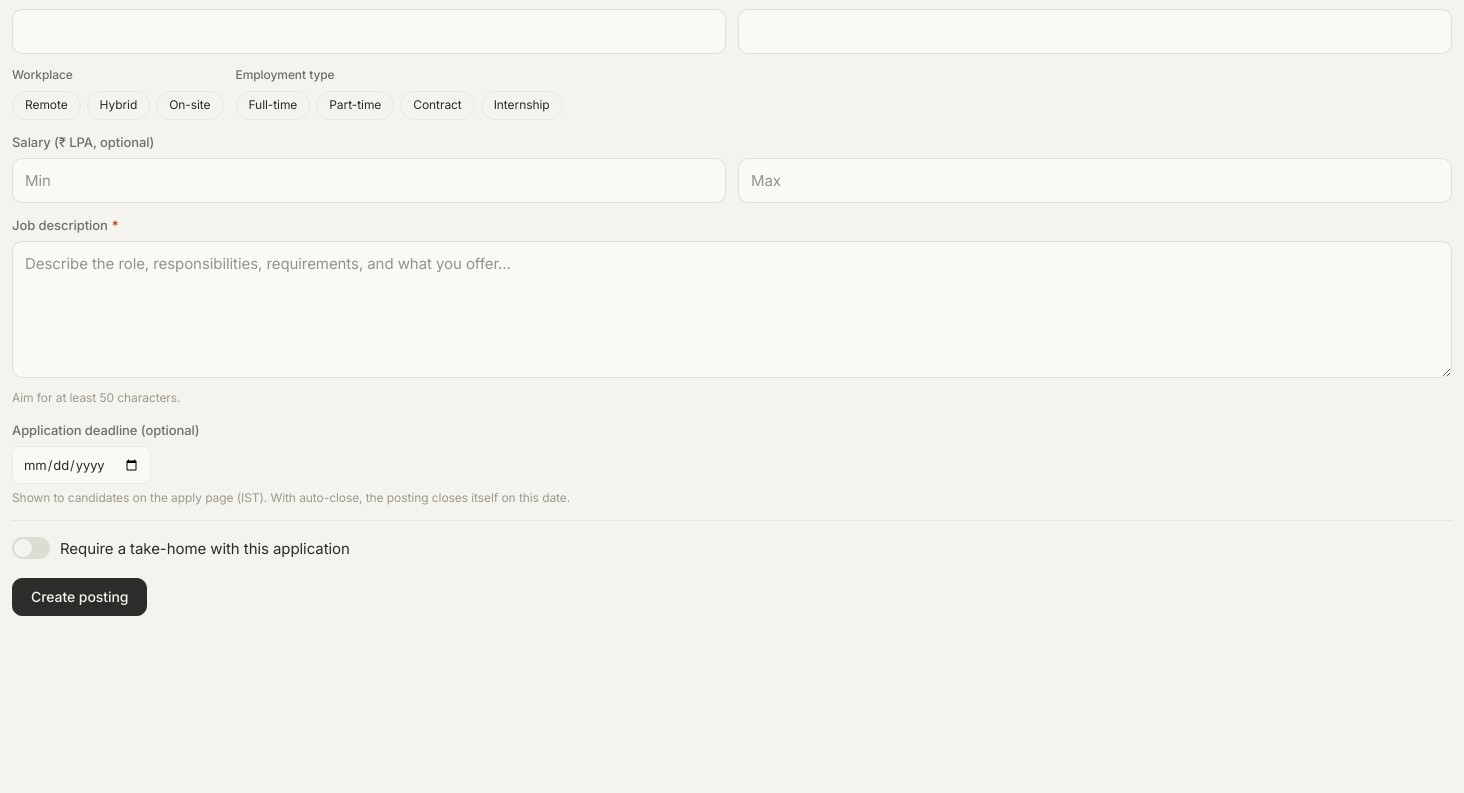
it: create with an assignment › a failed attach does NOT roll back the posting, offers a retry, and keeps the form
This screenshot has width=1464, height=793.
Type "Backend Engineer" into the field labelled "Job title*" at (369, 32), box x1=12 y1=9 x2=726 y2=54
Type "Bengaluru" into the field labelled "Location*" at (1095, 32), box x1=738 y1=9 x2=1452 y2=54
Click the button "Remote" at (46, 105), box x1=12 y1=91 x2=81 y2=120
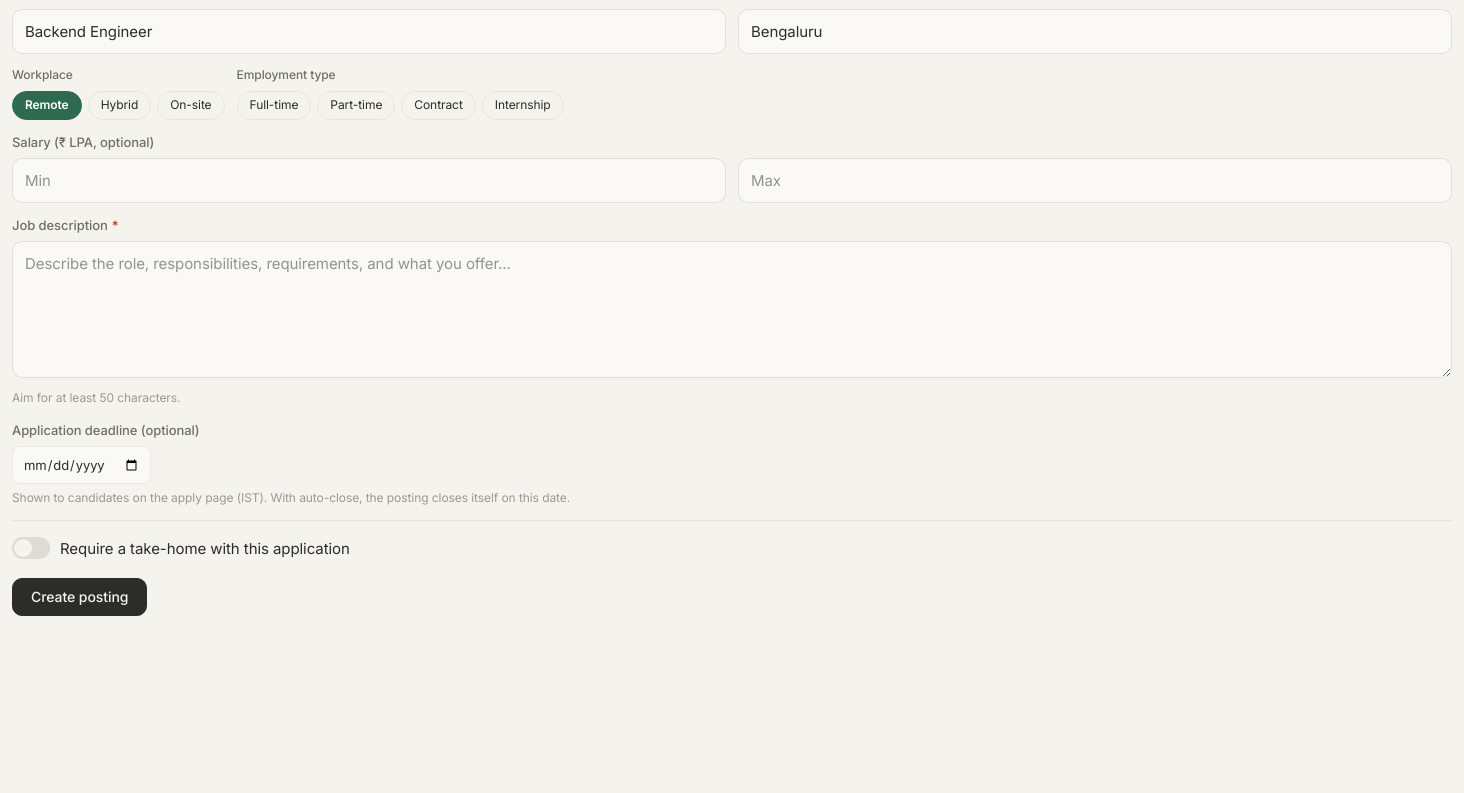
Click the button "Full-time" at (274, 105), box x1=236 y1=91 x2=311 y2=120
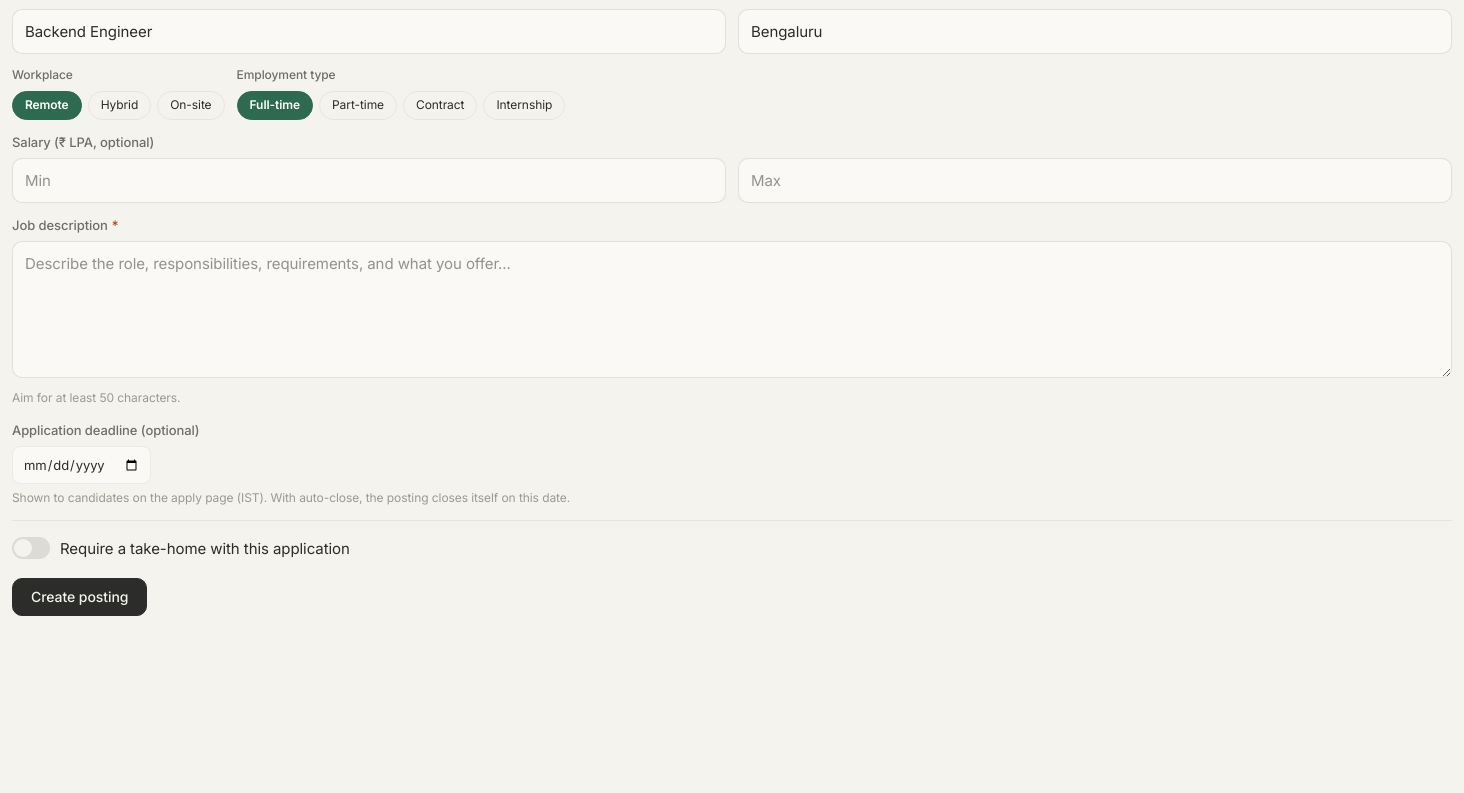
Replace the text in the text box labelled "Job description*" with "We are hiring a backend engineer to work on our ingestion pipeline." at (732, 310), box x1=12 y1=241 x2=1452 y2=378
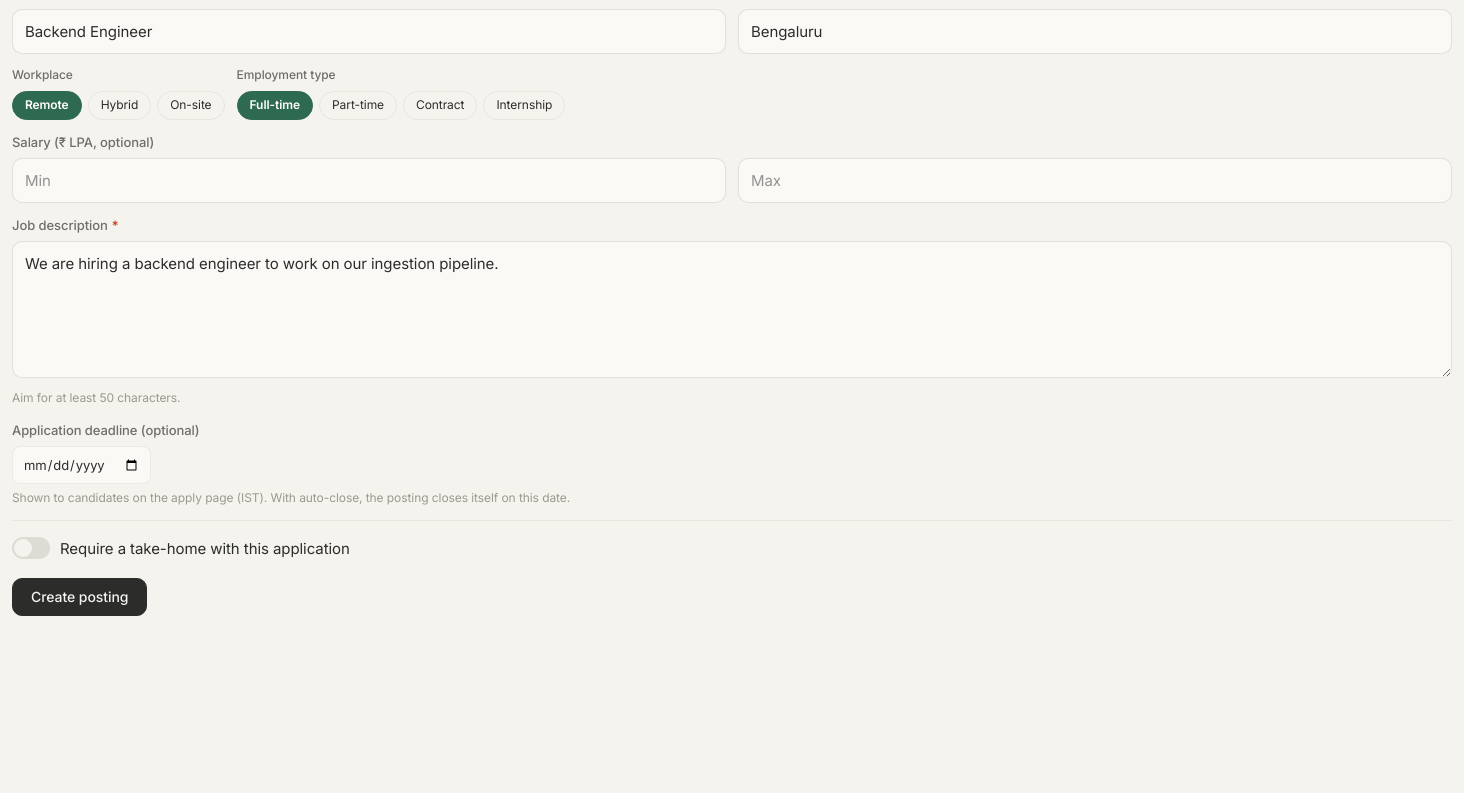
Click the switch named "Require a take-home with this application" at (31, 548), box x1=12 y1=538 x2=50 y2=560
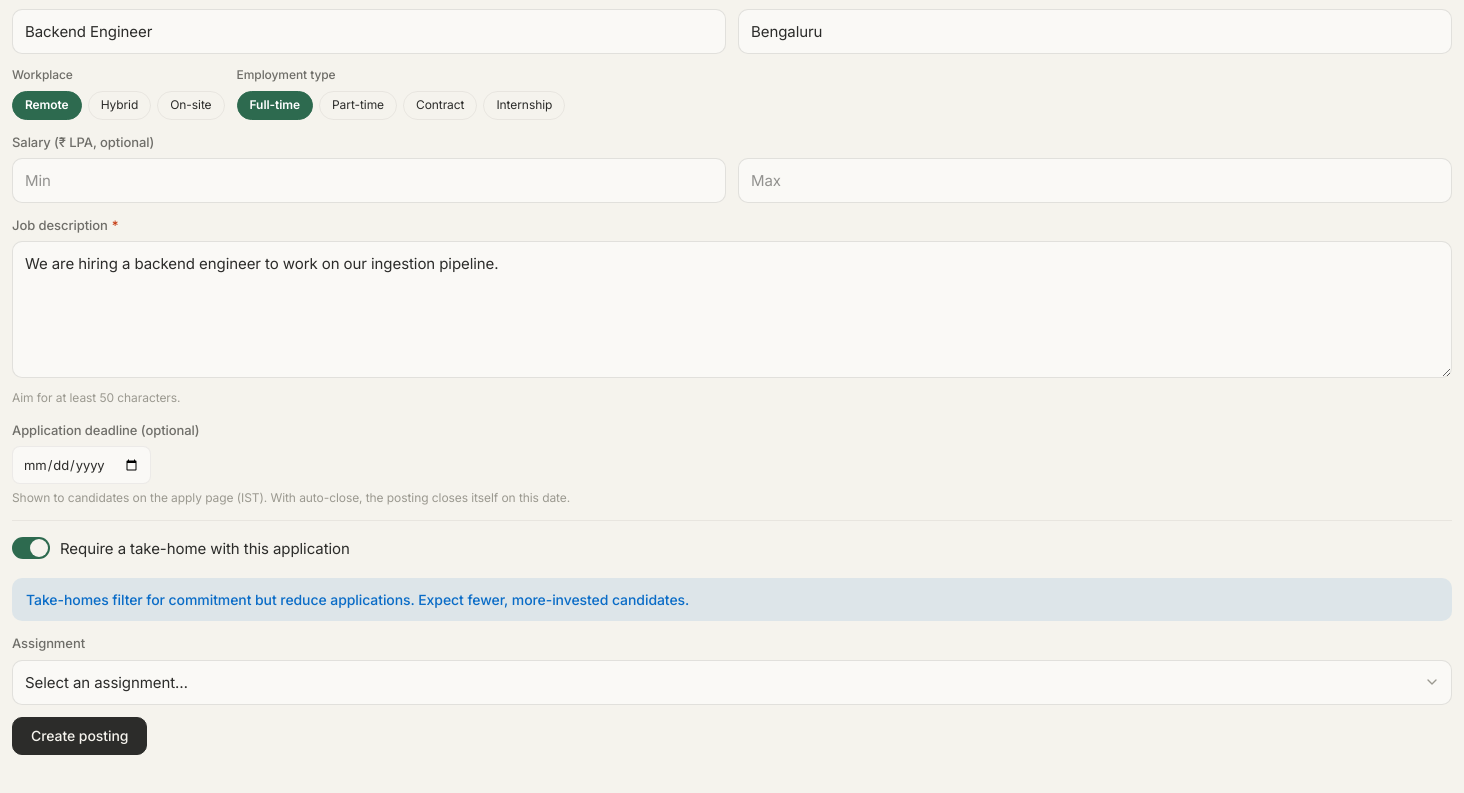
Select "Build a rate limiter · ~3h" in the dropdown labelled "Assignment" at (732, 682), box x1=12 y1=660 x2=1452 y2=705
(page scrolled)
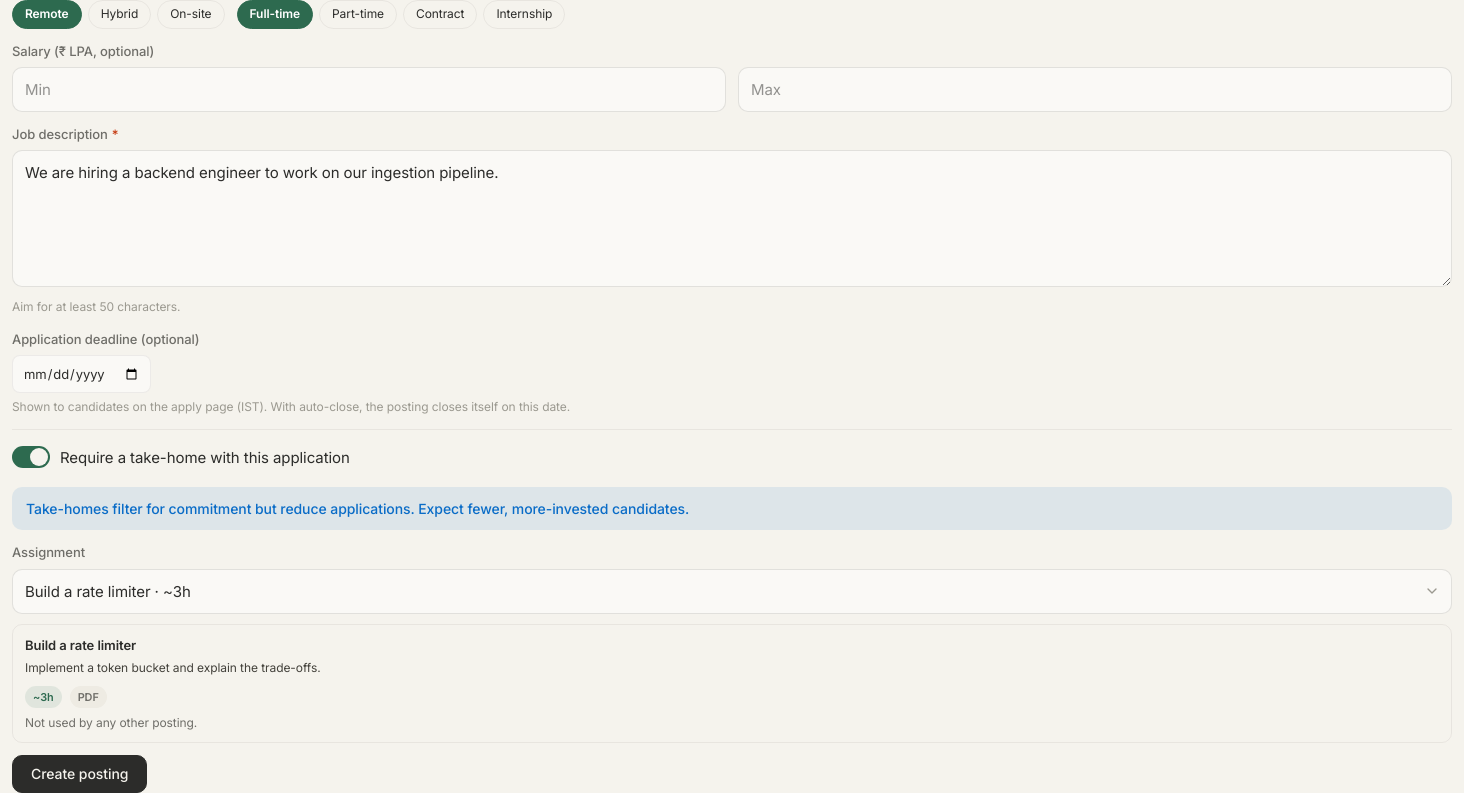
Click the button "Create posting" at (80, 774), box x1=12 y1=755 x2=147 y2=792
(page scrolled)
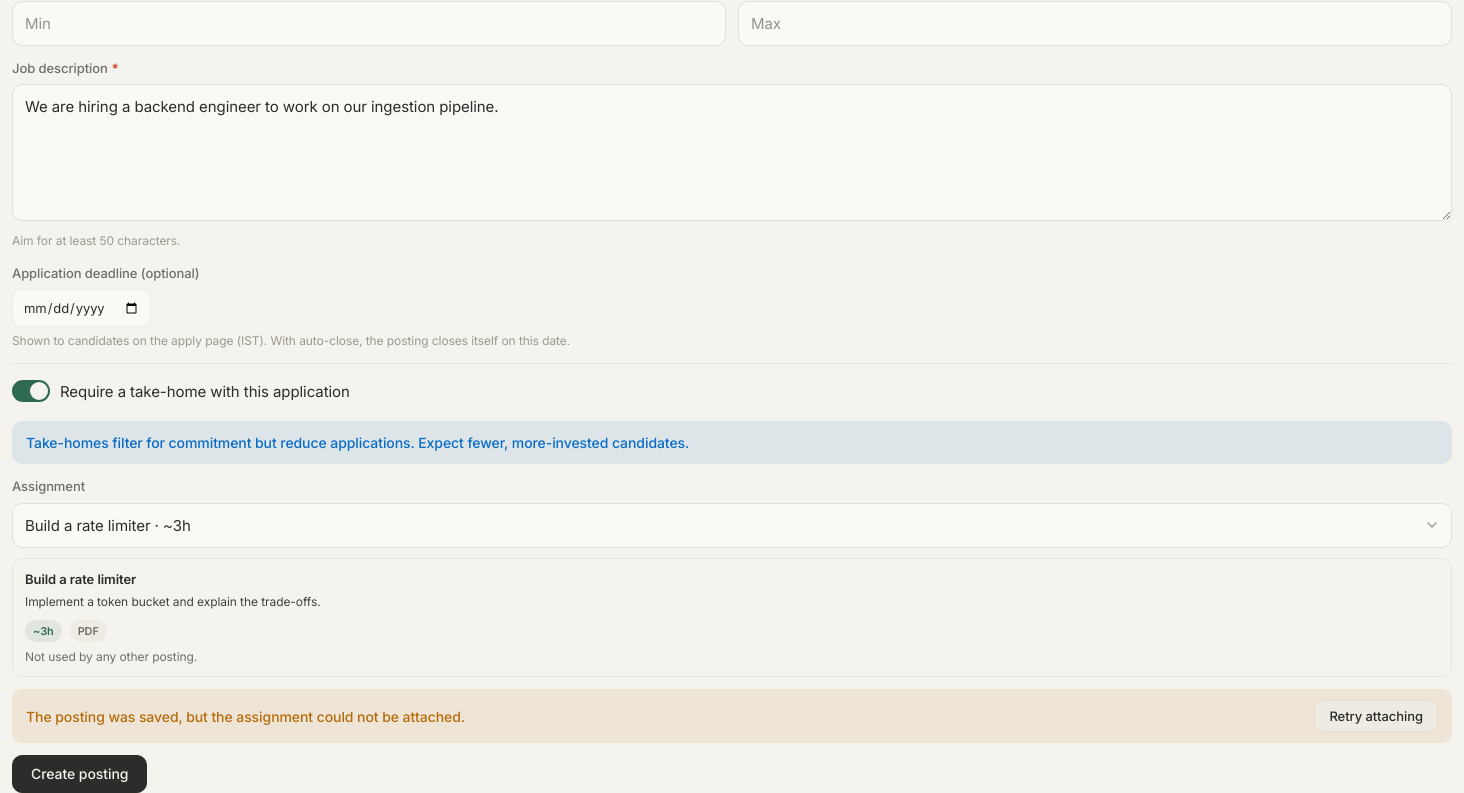
Expected: the text "The posting was saved, but the assignment could not be attached." is shown, x1=26 y1=706 x2=465 y2=727
Expected: the button "Retry attaching" is shown, x1=1314 y1=700 x2=1438 y2=732
